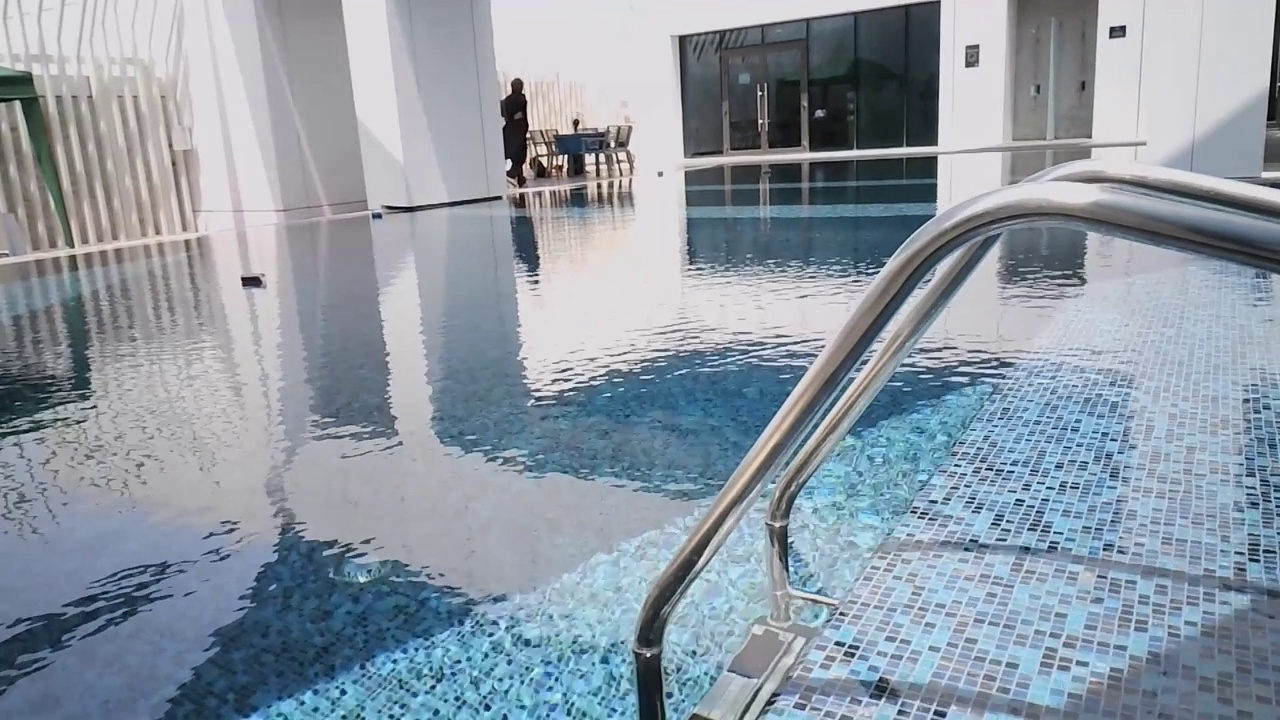debris: (234, 268, 270, 293), (757, 165, 774, 180), (368, 209, 381, 219), (654, 168, 663, 177)
